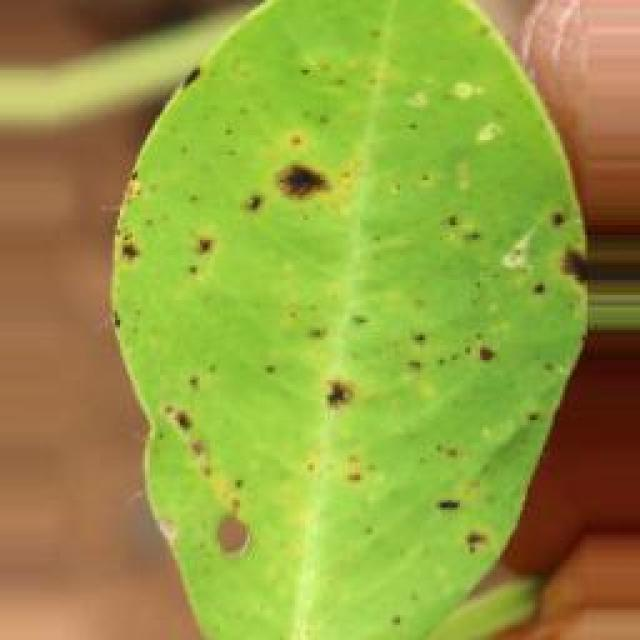Yellowish: (68, 44, 564, 573)
